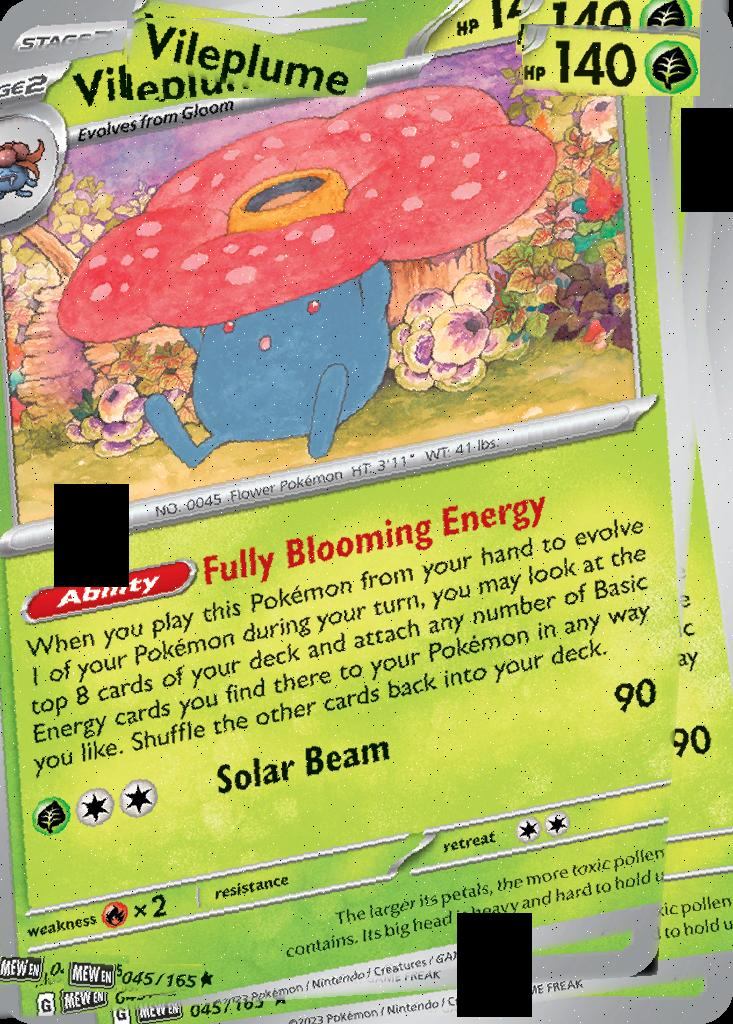card: (0, 0, 733, 1024)
hp: (522, 24, 701, 96)
name: (127, 18, 367, 100)
set num: (122, 964, 202, 997)
set symbol: (64, 962, 117, 992)
